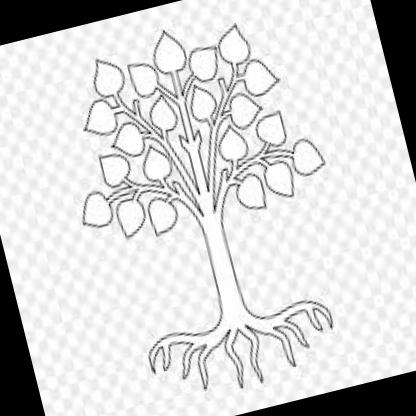branch_sharp: (43, 0, 335, 256)
root_only: (140, 286, 344, 409)
trunk_straight: (198, 233, 247, 302)
